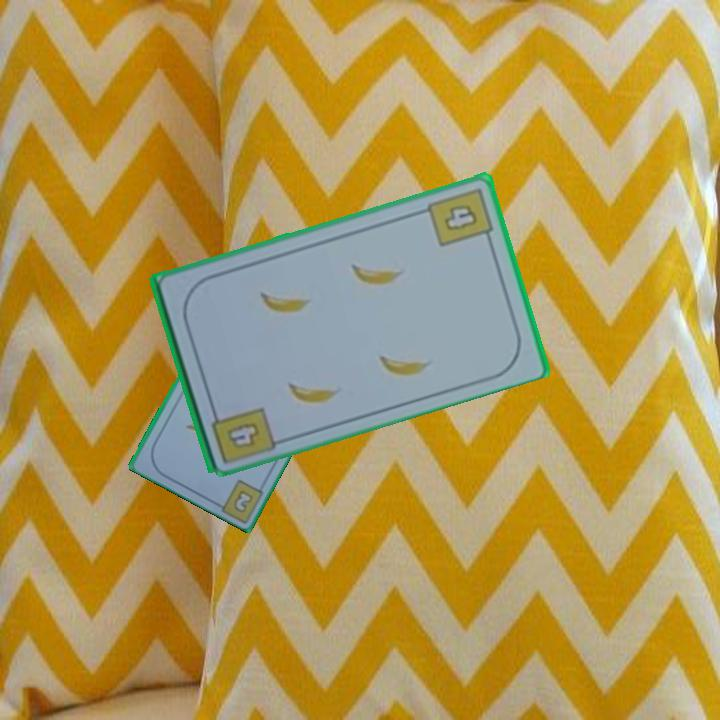2b: (230, 486, 256, 516)
4b: (424, 183, 496, 250), (227, 421, 259, 448)
